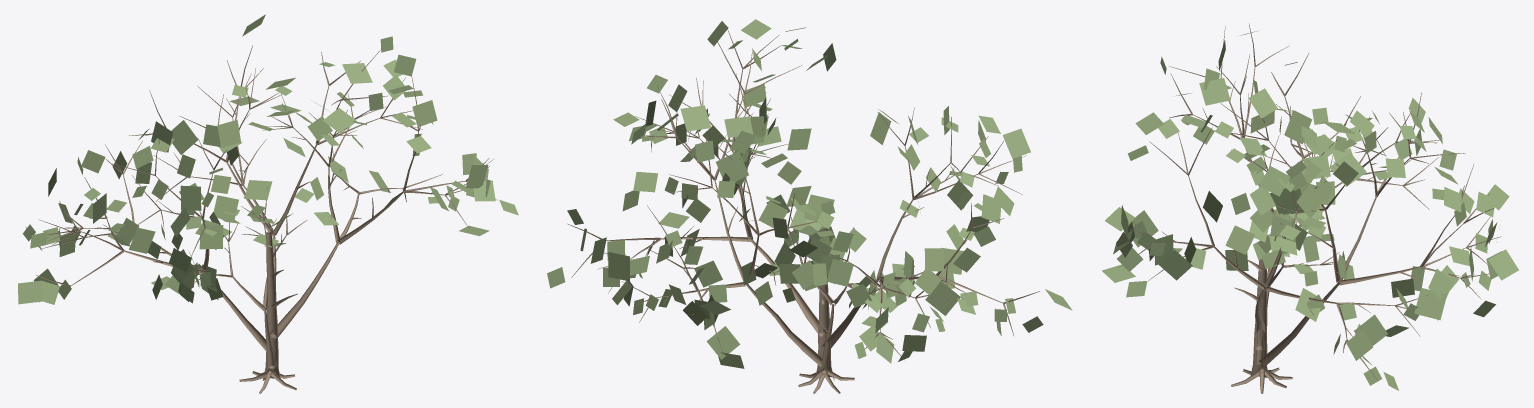
File: tree-c-far.glb
The picture shows the model from 3 angles, left to right: view 1: azimuth 30°, elevation 25°; view 2: azimuth 150°, elevation 25°; view 3: azimuth 270°, elevation 25°; orthographic projection. The views are drawn at different scales.
Visible parts, largest first — view 1: leaf, wood; view 2: leaf, wood; view 3: leaf, wood.
Boxes of the visible parts, bbox=[...] form: leaf: bbox=[18, 14, 518, 304]; wood: bbox=[36, 45, 497, 393]; leaf: bbox=[547, 19, 1072, 368]; wood: bbox=[567, 29, 1039, 393]; leaf: bbox=[1102, 31, 1518, 390]; wood: bbox=[1118, 24, 1501, 393].
Size of the model in its own units: 20.17 by 13.41 by 14.93.
